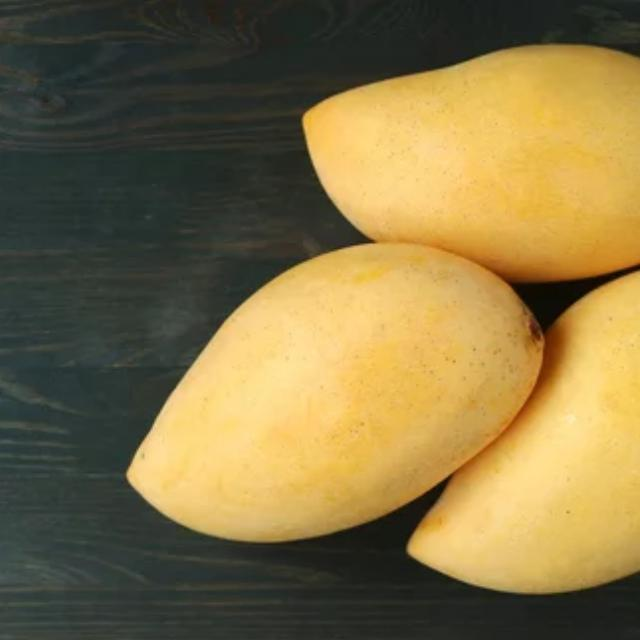mango: (123, 241, 551, 536), (294, 36, 640, 279), (399, 255, 640, 597)
